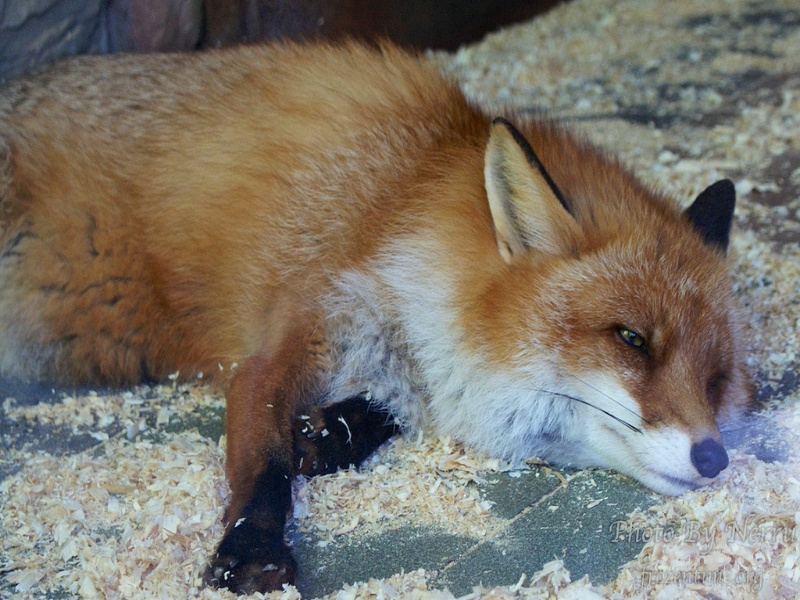fox: (2, 28, 747, 595)
